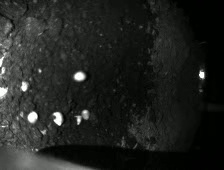corn: (48, 109, 65, 126), (25, 109, 39, 125), (72, 69, 87, 83), (18, 78, 30, 93), (80, 108, 92, 121), (72, 113, 83, 126)
